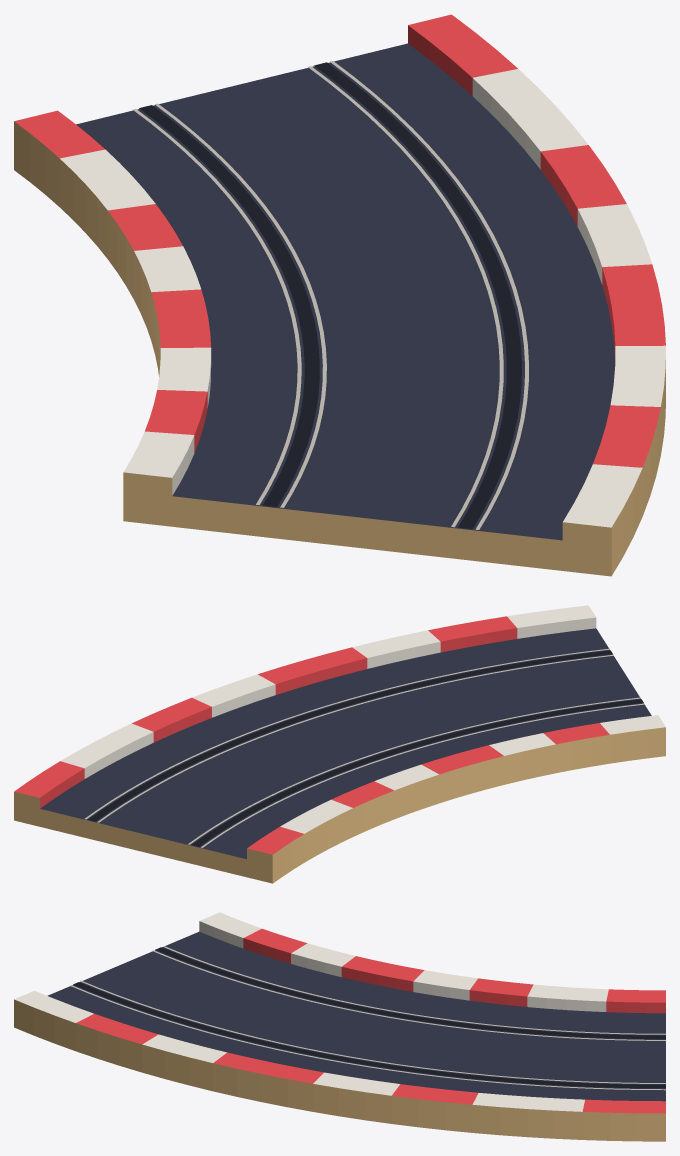
Rendered from Track_2L_Curve45_R.fbx.
3 renders of one model, top to bottom at view 1: azimuth 30°, elevation 25°; view 2: azimuth 150°, elevation 25°; view 3: azimuth 270°, elevation 25°, orthographic. The views are drawn at different scales.
Parts seen in each view (by area): view 1: Track_2L_Curve45_R; view 2: Track_2L_Curve45_R; view 3: Track_2L_Curve45_R.
Part boxes in pixels (x1,y1,x2,y2): Track_2L_Curve45_R: (14,14,665,576); Track_2L_Curve45_R: (14,605,665,883); Track_2L_Curve45_R: (14,912,665,1141).
Size of the model in its own units: 4.9 by 0.32 by 6.72.
